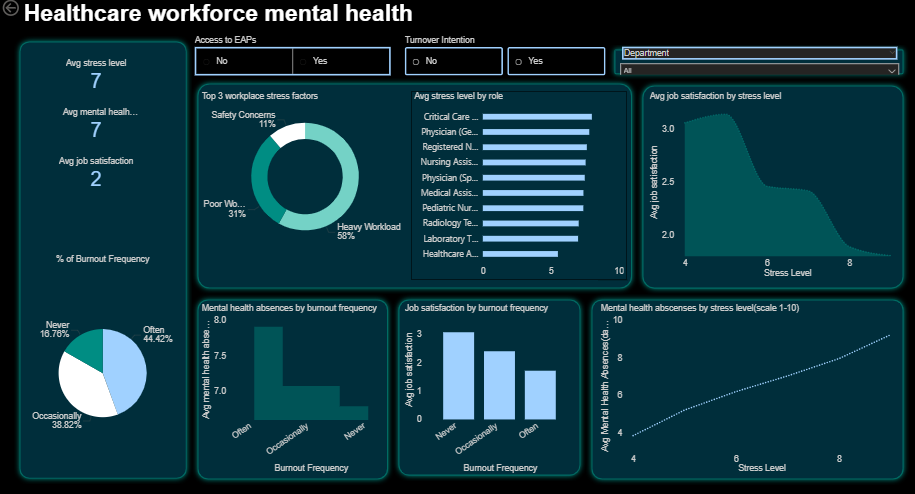

Layout of this report page (visuals, bound fields, positions):
{"tool":"powerbi","page":{"name":"Page 1","canvas":[1700,950],"ordinal":0},"visuals":[{"type":"textbox","box":[39.3,0,750,69.6],"z":0},{"type":"shape","box":[25.7,72.9,330,830],"z":1000},{"type":"shape","box":[355.4,150,825,400],"z":2000},{"type":"donutChart","title":"Top 3 workplace stress factors","fields":{"Category":["Healthcare Workforce Mental Health Dataset.Workplace Factor"],"Y":["CountNonNull(Healthcare Workforce Mental Health Dataset.Workplace Factor)"]},"box":[367.9,175,392.9,300],"z":3000},{"type":"clusteredBarChart","title":"Avg stress level by role","fields":{"Y":["Avg(Healthcare Workforce Mental Health Dataset.Stress Level)"],"Category":["Healthcare Workforce Mental Health Dataset.Employee Type"]},"box":[760.7,175,400,350],"z":4000},{"type":"cardVisual","fields":{"Data":["Healthcare Workforce Mental Health Dataset.Avg stress level","Healthcare Workforce Mental Health Dataset.Avg mental healh abscenses","Healthcare Workforce Mental Health Dataset.Avg job satisfaction"]},"box":[60.5,87.7,234.6,300],"z":5000},{"type":"shape","box":[1085.7,550,598.2,353.6],"z":6000},{"type":"lineChart","title":"Mental health abscenses by stress level(scale 1-10)","fields":{"Category":["Healthcare Workforce Mental Health Dataset.Stress Level"],"Y":["Avg(Healthcare Workforce Mental Health Dataset.Mental Health Absences)"]},"box":[1107.1,566.1,557.1,319.6],"z":7000},{"type":"shape","box":[728.6,550,357.1,346.4],"z":8000},{"type":"pieChart","title":"% of Burnout Frequency","fields":{"Category":["Healthcare Workforce Mental Health Dataset.Burnout Frequency"],"Y":["CountNonNull(Healthcare Workforce Mental Health Dataset.Burnout Frequency)"]},"box":[39.5,475.3,302.5,427.2],"z":9000},{"type":"shape","box":[355.4,550,373.2,353.6],"z":10000},{"type":"lineChart","title":"Mental health absences by burnout frequency","fields":{"Category":["Healthcare Workforce Mental Health Dataset.Burnout Frequency"],"Y":["Avg(Healthcare Workforce Mental Health Dataset.Mental Health Absences)"]},"box":[367.9,566.1,360.7,319.6],"z":11000},{"type":"actionButton","box":[0,0,100,40],"z":12000},{"type":"shape","box":[1180.4,153.6,503.6,396.4],"z":13000},{"type":"lineClusteredColumnComboChart","title":"Job satisfaction by burnout frequency","fields":{"Category":["Healthcare Workforce Mental Health Dataset.Burnout Frequency"],"Y":["Healthcare Workforce Mental Health Dataset.Avg job satisfaction"]},"box":[744.6,566.1,323.2,319.6],"z":14000},{"type":"shape","box":[1128.6,87.5,555.4,66.1],"z":15000},{"type":"advancedSlicerVisual","fields":{"Values":["Healthcare Workforce Mental Health Dataset.Access to EAPs"]},"box":[355.4,69.6,373.2,80.4],"z":16000},{"type":"areaChart","title":"Avg job satisfaction by stress level","fields":{"Category":["Healthcare Workforce Mental Health Dataset.Stress Level"],"Y":["Healthcare Workforce Mental Health Dataset.Avg job satisfaction"]},"box":[1198.2,175,466.1,350],"z":17000},{"type":"slicer","fields":{"Values":["Healthcare Workforce Mental Health Dataset.Department"]},"box":[1139.3,87.5,535.7,57.1],"z":17001},{"type":"advancedSlicerVisual","fields":{"Values":["Healthcare Workforce Mental Health Dataset.Turnover Intention"]},"box":[744.6,69.6,383.9,80.4],"z":17002}]}

Visuals, with their boxes in screenshot pixels (x1, y1, x2, y2):
textbox: BBox(23, 0, 421, 37)
shape: BBox(16, 39, 191, 479)
shape: BBox(191, 80, 629, 292)
"Top 3 workplace stress factors" donutChart: BBox(198, 93, 406, 252)
"Avg stress level by role" clusteredBarChart: BBox(406, 93, 619, 279)
cardVisual - Healthcare Workforce Mental Health Dataset.Avg stress level x Healthcare Workforce Mental Health Dataset.Avg mental healh abscenses: BBox(34, 47, 159, 206)
shape: BBox(579, 292, 896, 480)
"Mental health abscenses by stress level(scale 1-10)" lineChart: BBox(590, 301, 886, 470)
shape: BBox(389, 292, 579, 476)
"% of Burnout Frequency" pieChart: BBox(23, 252, 184, 479)
shape: BBox(191, 292, 389, 480)
"Mental health absences by burnout frequency" lineChart: BBox(198, 301, 389, 470)
actionButton: BBox(2, 0, 55, 21)
shape: BBox(629, 82, 896, 292)
"Job satisfaction by burnout frequency" lineClusteredColumnComboChart: BBox(398, 301, 569, 470)
shape: BBox(601, 46, 896, 82)
advancedSlicerVisual - Healthcare Workforce Mental Health Dataset.Access to EAPs: BBox(191, 37, 389, 80)
"Avg job satisfaction by stress level" areaChart: BBox(638, 93, 886, 279)
slicer - Healthcare Workforce Mental Health Dataset.Department: BBox(607, 46, 892, 77)
advancedSlicerVisual - Healthcare Workforce Mental Health Dataset.Turnover Intention: BBox(398, 37, 601, 80)
